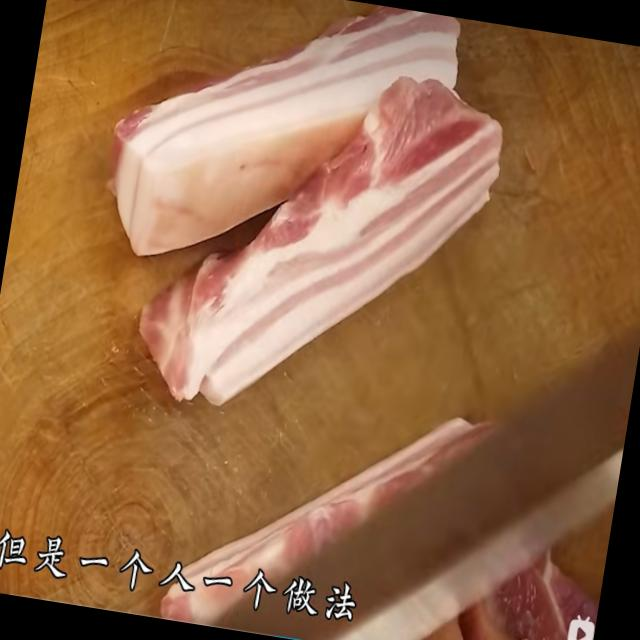--: (130, 29, 520, 446), (74, 0, 457, 282)
